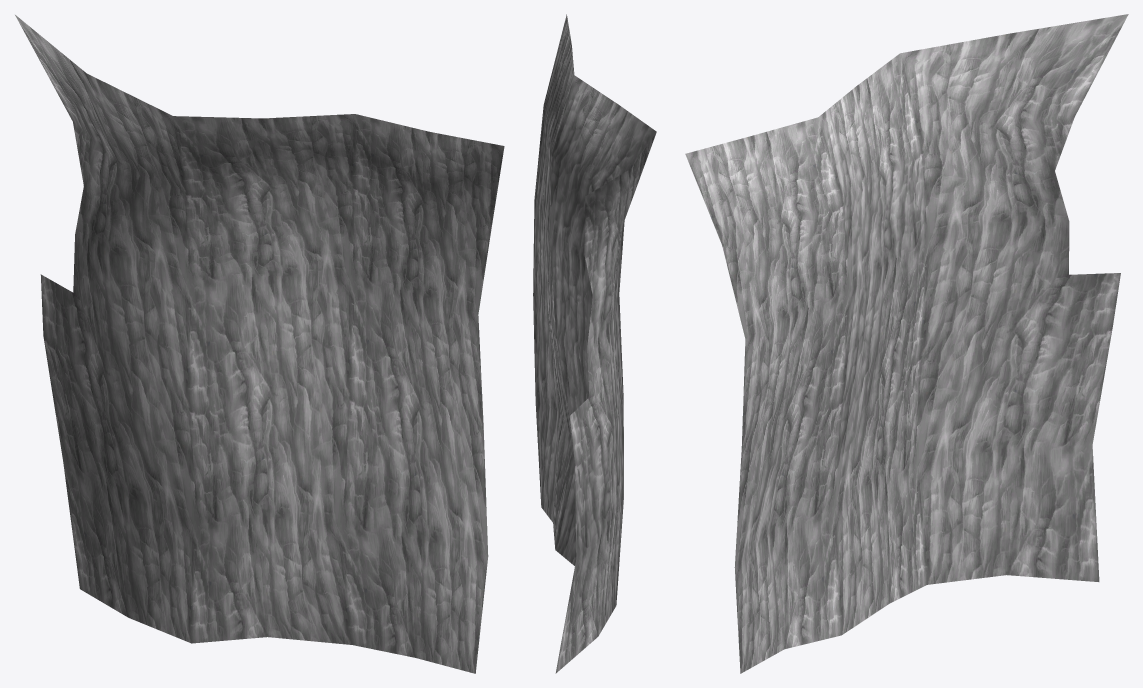
File: SWORDLIGHT20_PS-AREA03_204.fbx
3 renders of one model, left to right at view 1: azimuth 30°, elevation 25°; view 2: azimuth 150°, elevation 25°; view 3: azimuth 270°, elevation 25°, orthographic. The views are drawn at different scales.
Visible parts, largest first — view 1: SWORDLIGHT20_PS-AREA03_204; view 2: SWORDLIGHT20_PS-AREA03_204; view 3: SWORDLIGHT20_PS-AREA03_204.
Boxes of the visible parts, box(x1,y1,x2,y2) form: SWORDLIGHT20_PS-AREA03_204: box(15, 15, 504, 673); SWORDLIGHT20_PS-AREA03_204: box(533, 14, 656, 673); SWORDLIGHT20_PS-AREA03_204: box(685, 14, 1128, 673).
Size of the model in its own units: 107009 by 221699 by 163499.
1 material, 1 textured.
